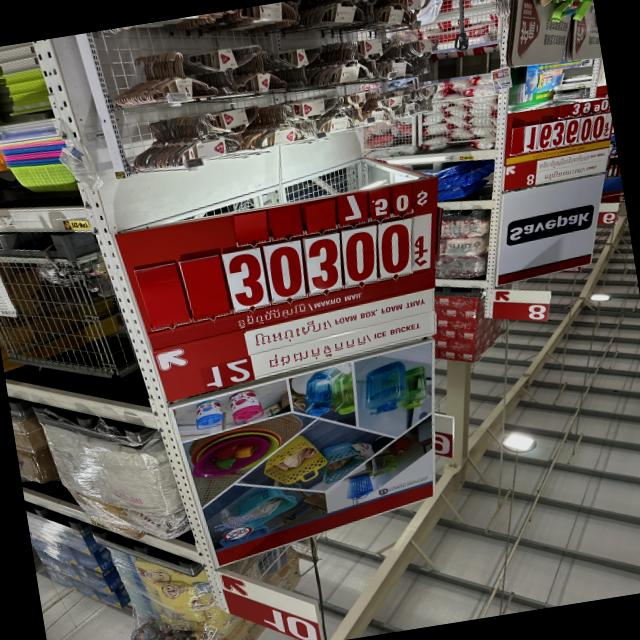Yolov11kh: (256, 329, 373, 377), (242, 312, 332, 351), (227, 297, 312, 330)
